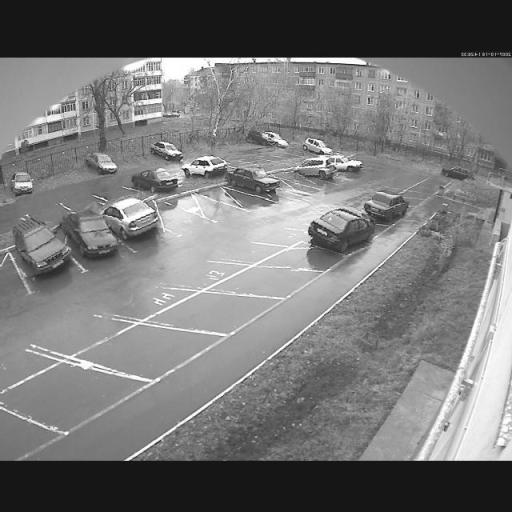busy: (302, 202, 376, 260), (13, 212, 72, 276), (98, 196, 162, 242), (62, 213, 120, 262), (225, 166, 284, 200), (362, 190, 411, 222), (129, 166, 181, 194), (179, 152, 231, 178), (293, 156, 339, 183), (84, 150, 124, 176), (330, 150, 369, 176), (148, 140, 188, 164), (248, 128, 292, 148), (7, 170, 38, 196), (300, 136, 338, 157), (440, 164, 474, 182)
free: (41, 377, 89, 417), (120, 334, 168, 372), (194, 298, 241, 330), (252, 264, 296, 296), (287, 244, 318, 272), (192, 194, 220, 220), (38, 204, 64, 225), (68, 195, 97, 213), (156, 206, 184, 224), (101, 183, 128, 199), (280, 174, 304, 190)
